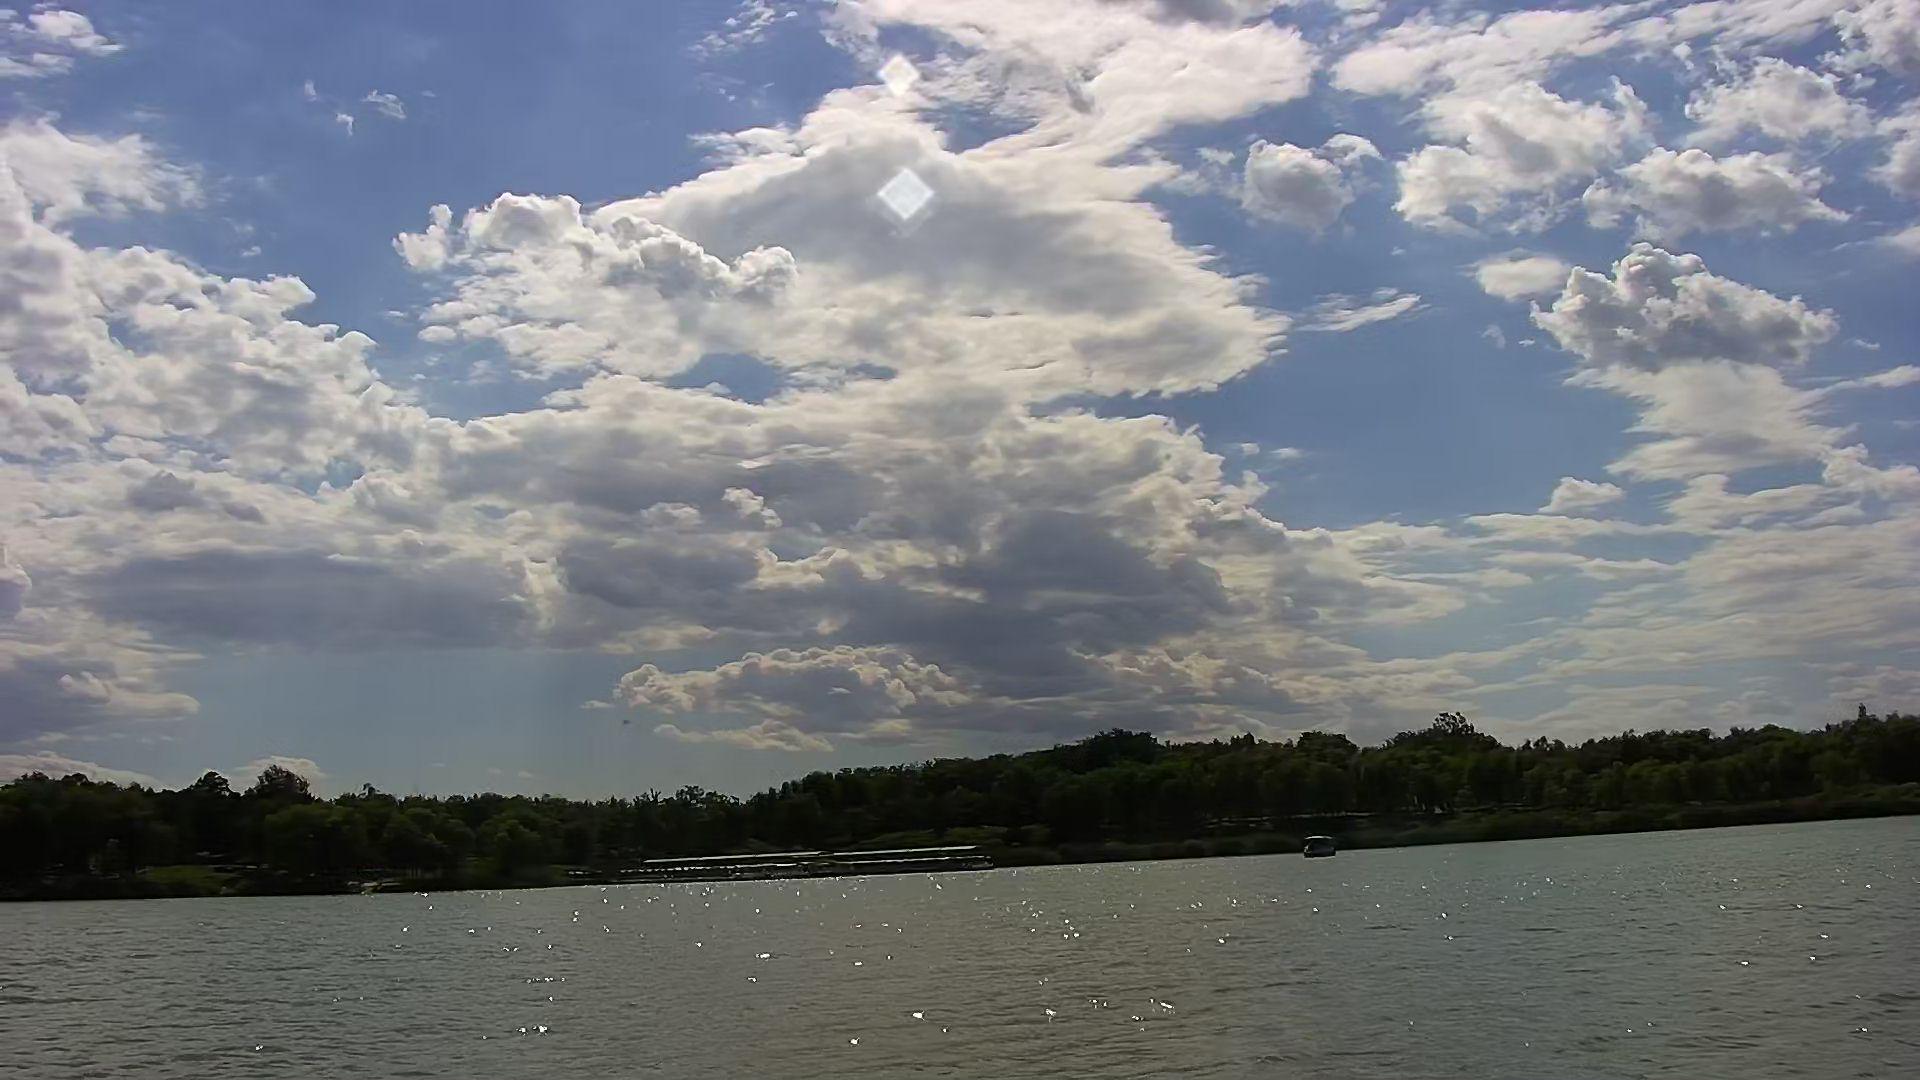boat: (1302, 822, 1341, 864)
harbor: (634, 835, 996, 884)
